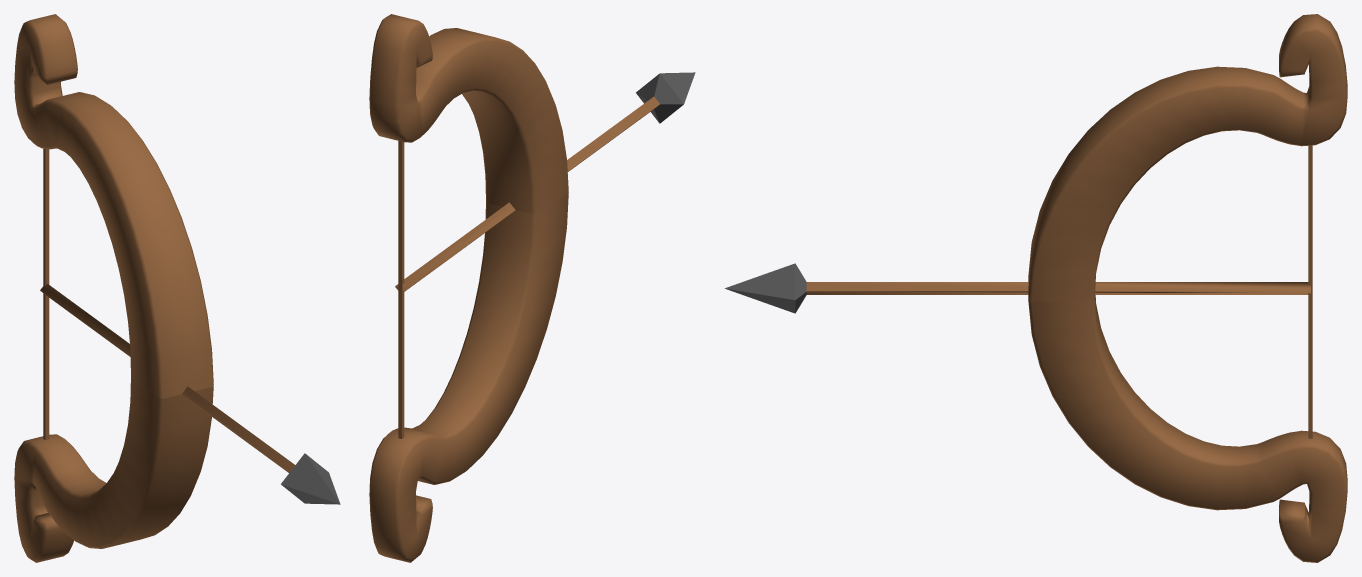
File: TowerDefense_BowAndArrow 1.fbx
3 renders of one model, left to right at view 1: azimuth 30°, elevation 25°; view 2: azimuth 150°, elevation 25°; view 3: azimuth 270°, elevation 25°, orthographic.
Visible parts, largest first — view 1: Bow, Arrow; view 2: Bow, Arrow; view 3: Bow, Arrow.
Part boxes in pixels (x1=…): Bow: x1=14, y1=14, x2=213, y2=562; Arrow: x1=40, y1=284, x2=340, y2=504; Bow: x1=369, y1=14, x2=568, y2=562; Arrow: x1=395, y1=72, x2=695, y2=292; Bow: x1=1028, y1=14, x2=1347, y2=562; Arrow: x1=724, y1=263, x2=1310, y2=313.
Size of the model in its own units: 15.4 by 143 by 151.
